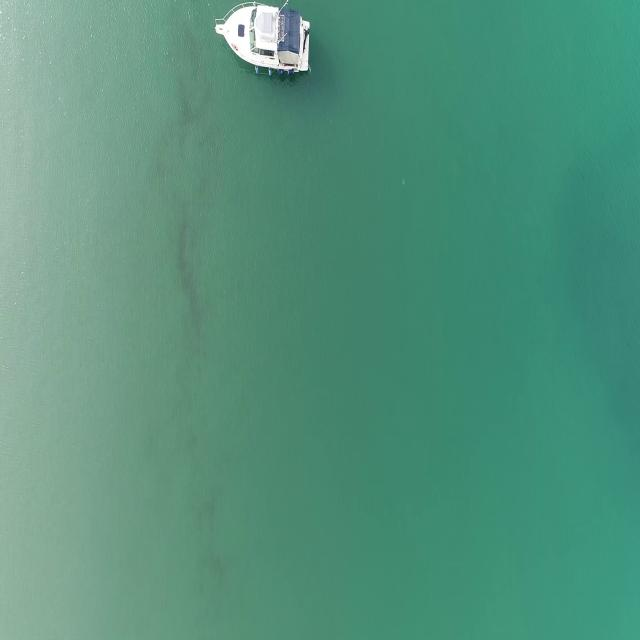boat: (213, 4, 311, 82)
